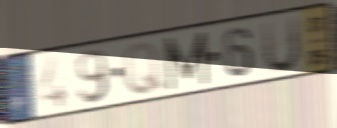4: (40, 53, 69, 111)
6: (222, 26, 255, 79)
9: (74, 48, 111, 106)
M: (163, 30, 210, 93)
Q: (121, 40, 167, 97)
U: (259, 12, 302, 76)
